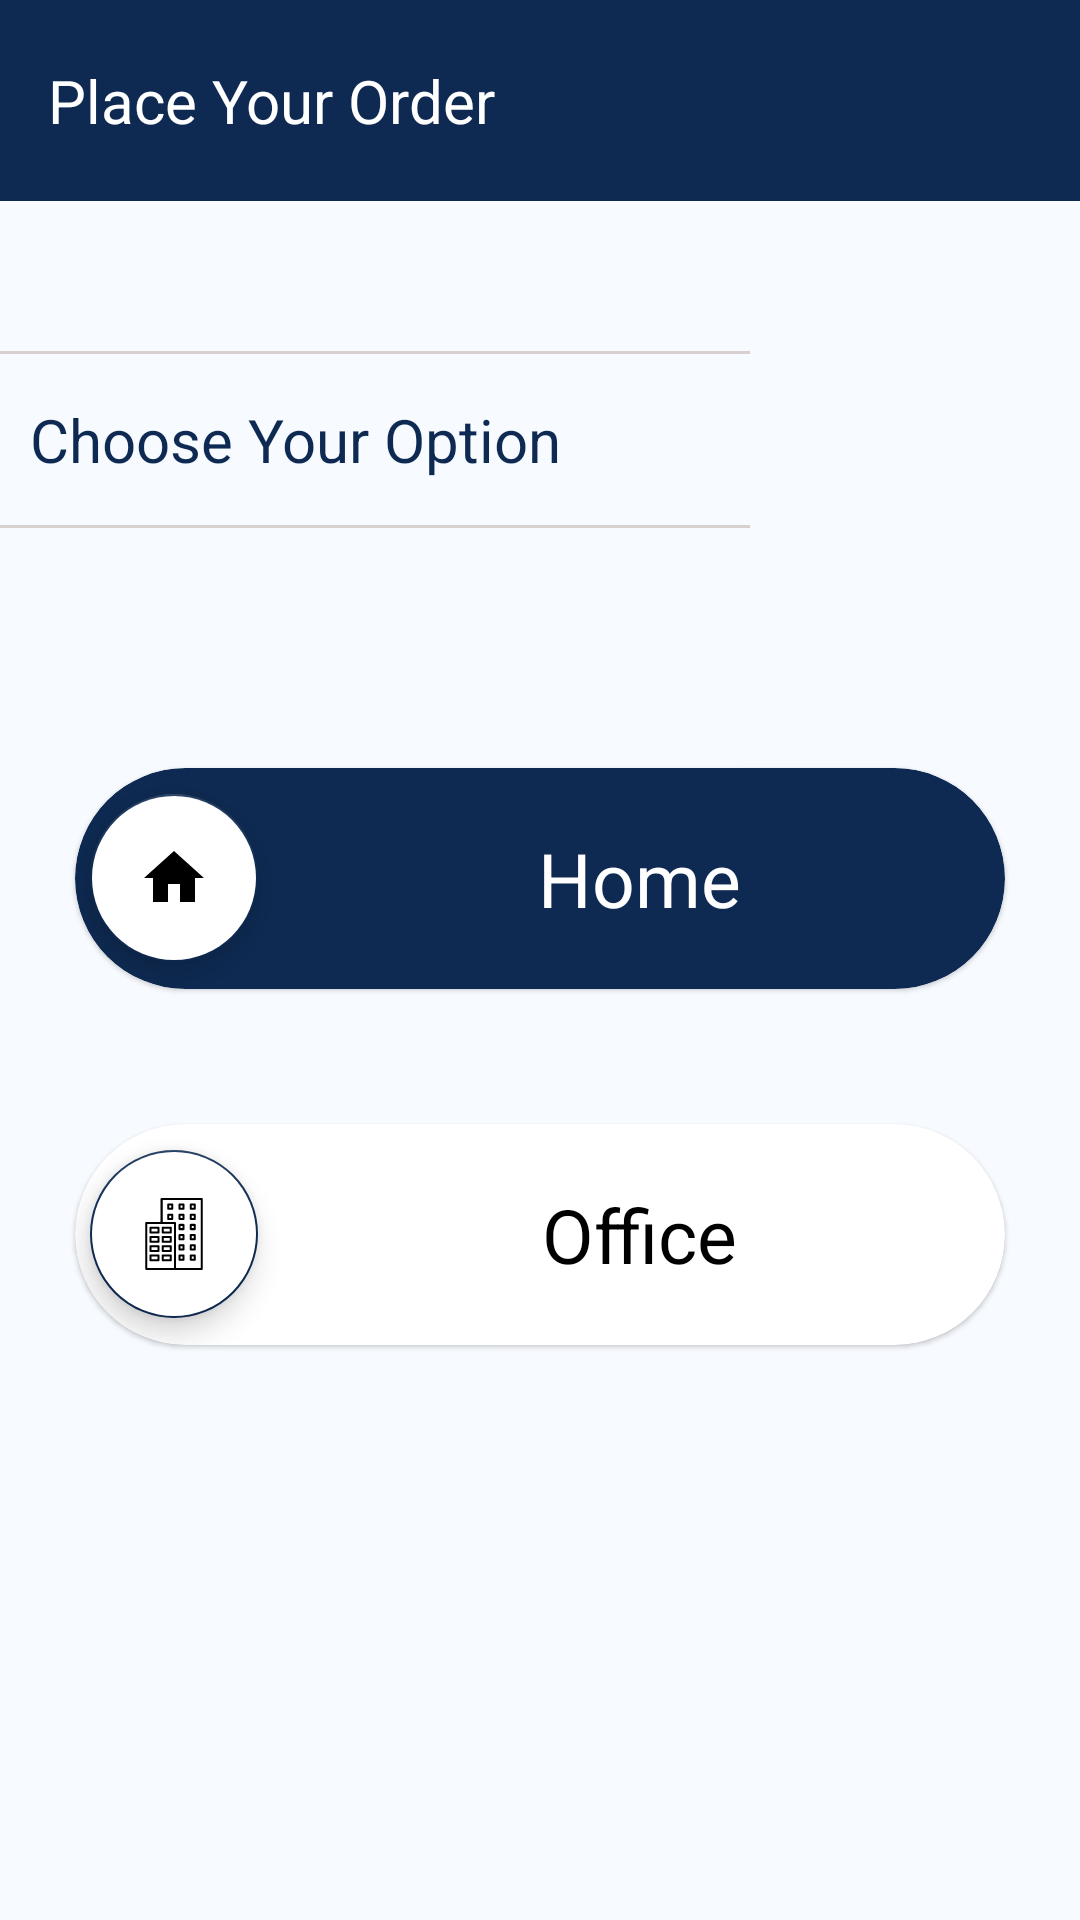

Locate icon controls on the screen. Image size 1080 x 1920, boxes as box(x1, y1, x2, y2).
building: box(90, 1150, 258, 1318)
